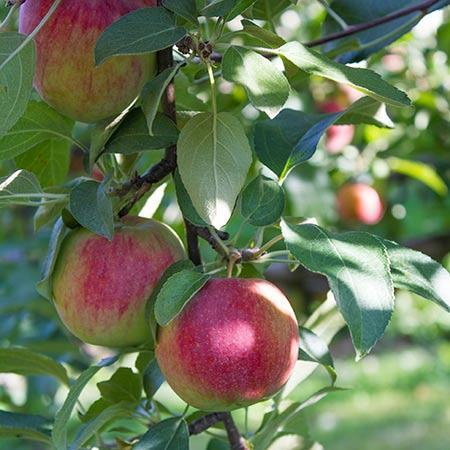apple: (154, 281, 301, 414), (50, 211, 186, 349), (22, 1, 151, 123)
